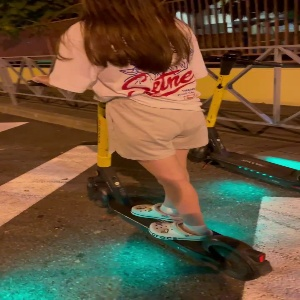human on a scooter: (26, 1, 274, 284)
